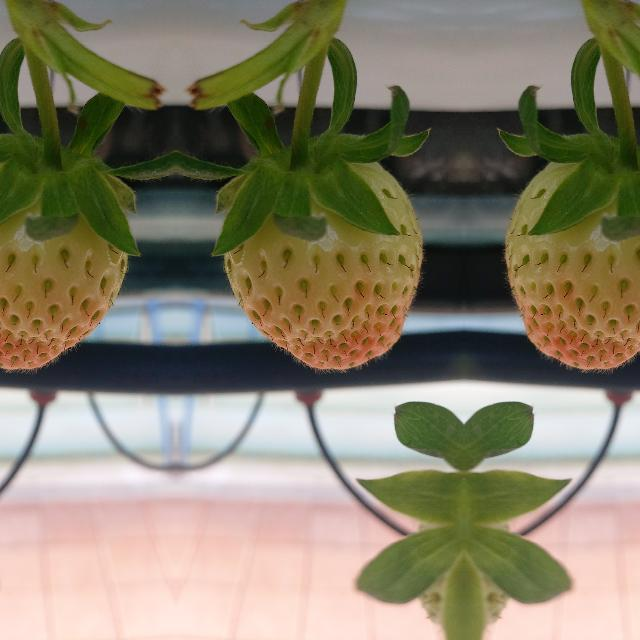Health_50: (224, 162, 421, 368), (505, 161, 640, 368), (0, 161, 126, 368)
